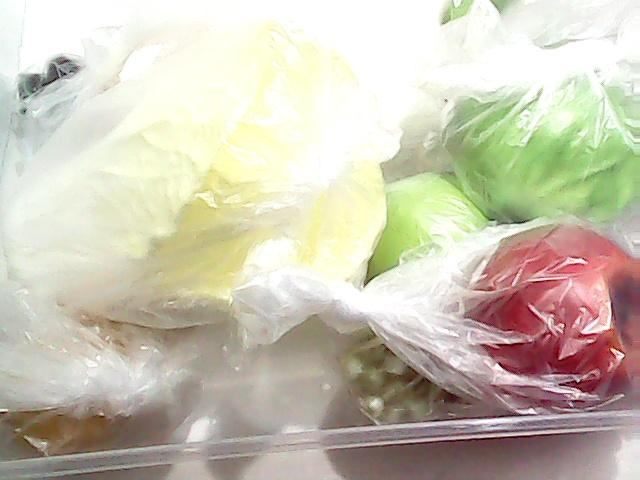apple: (446, 214, 640, 436), (344, 163, 500, 297)
cabbage: (432, 9, 640, 233)
grape: (286, 320, 458, 432), (12, 46, 100, 122)
napa cabbage: (11, 22, 376, 302)
potato: (0, 298, 192, 457)
